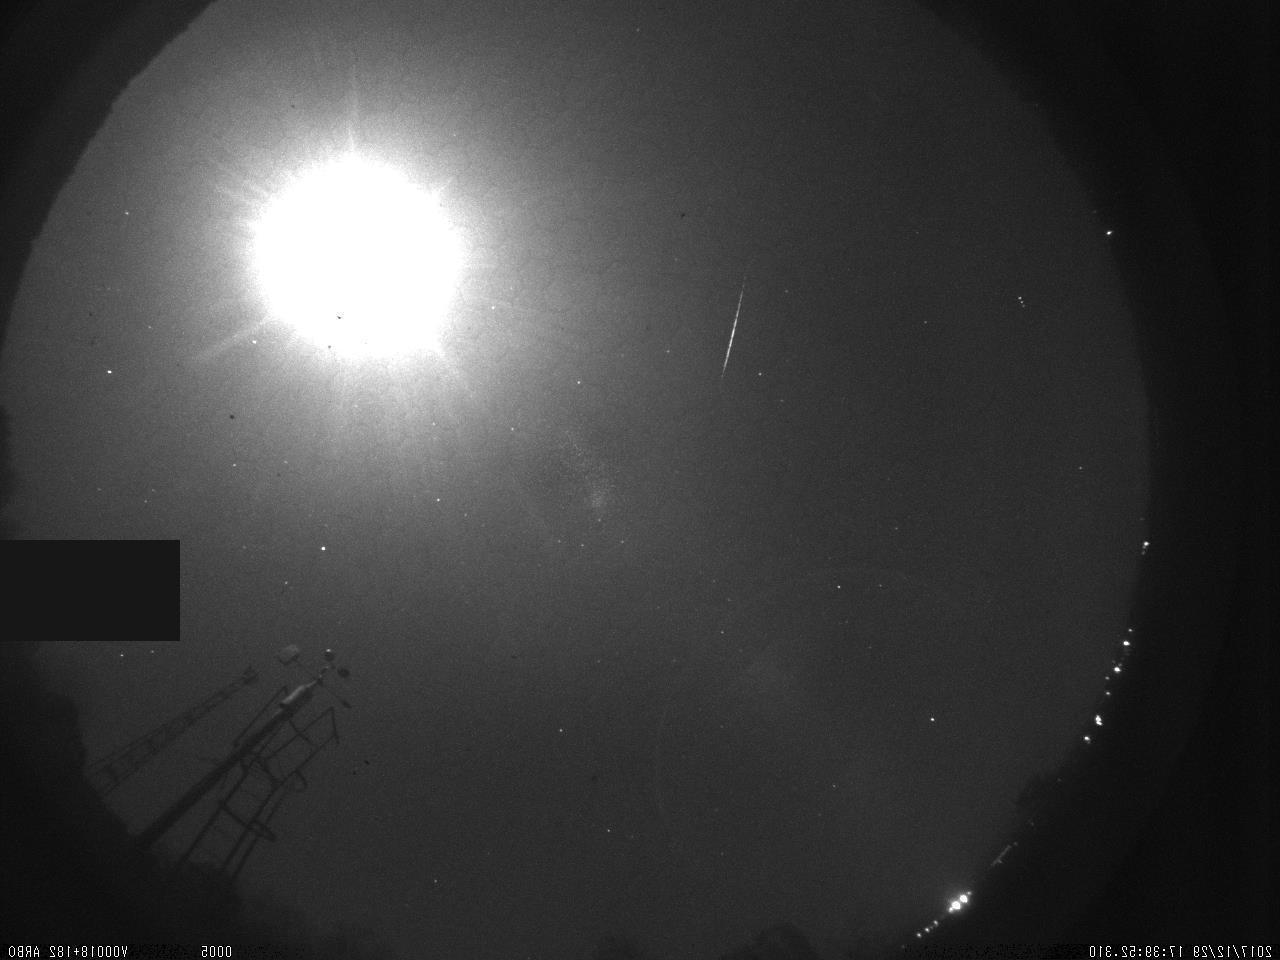meteor: (698, 262, 769, 389)
